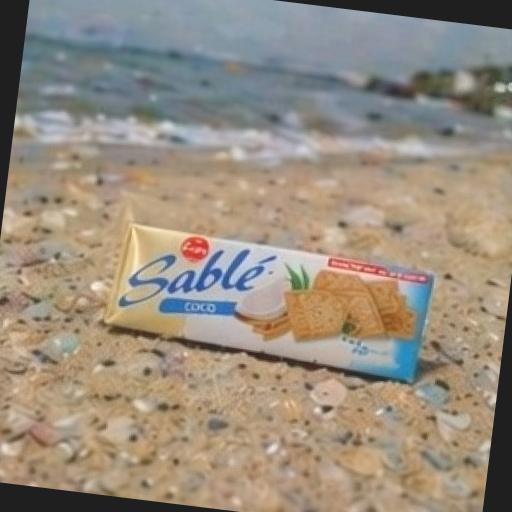sable: (44, 152, 496, 444)
